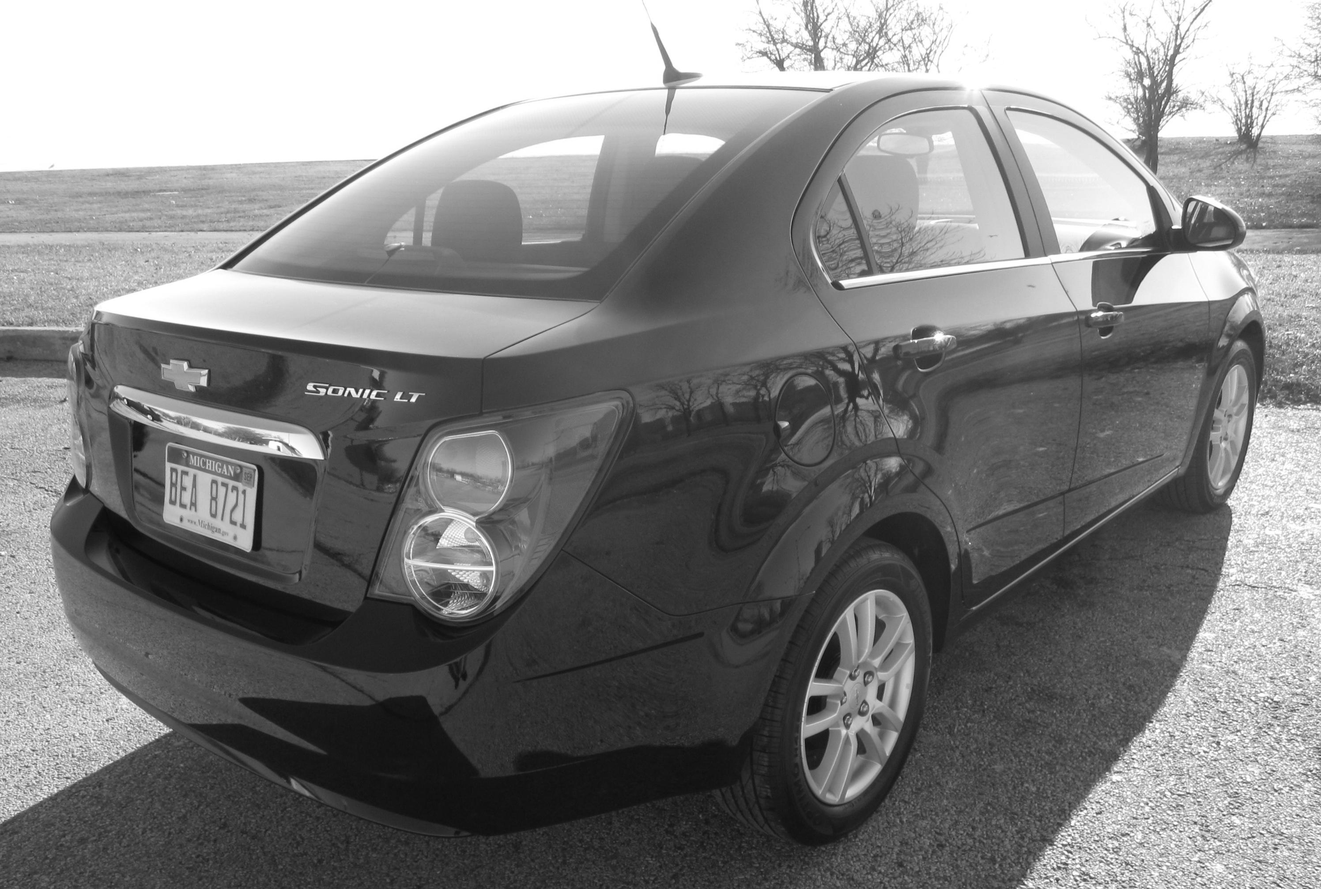car: (49, 9, 1262, 851)
